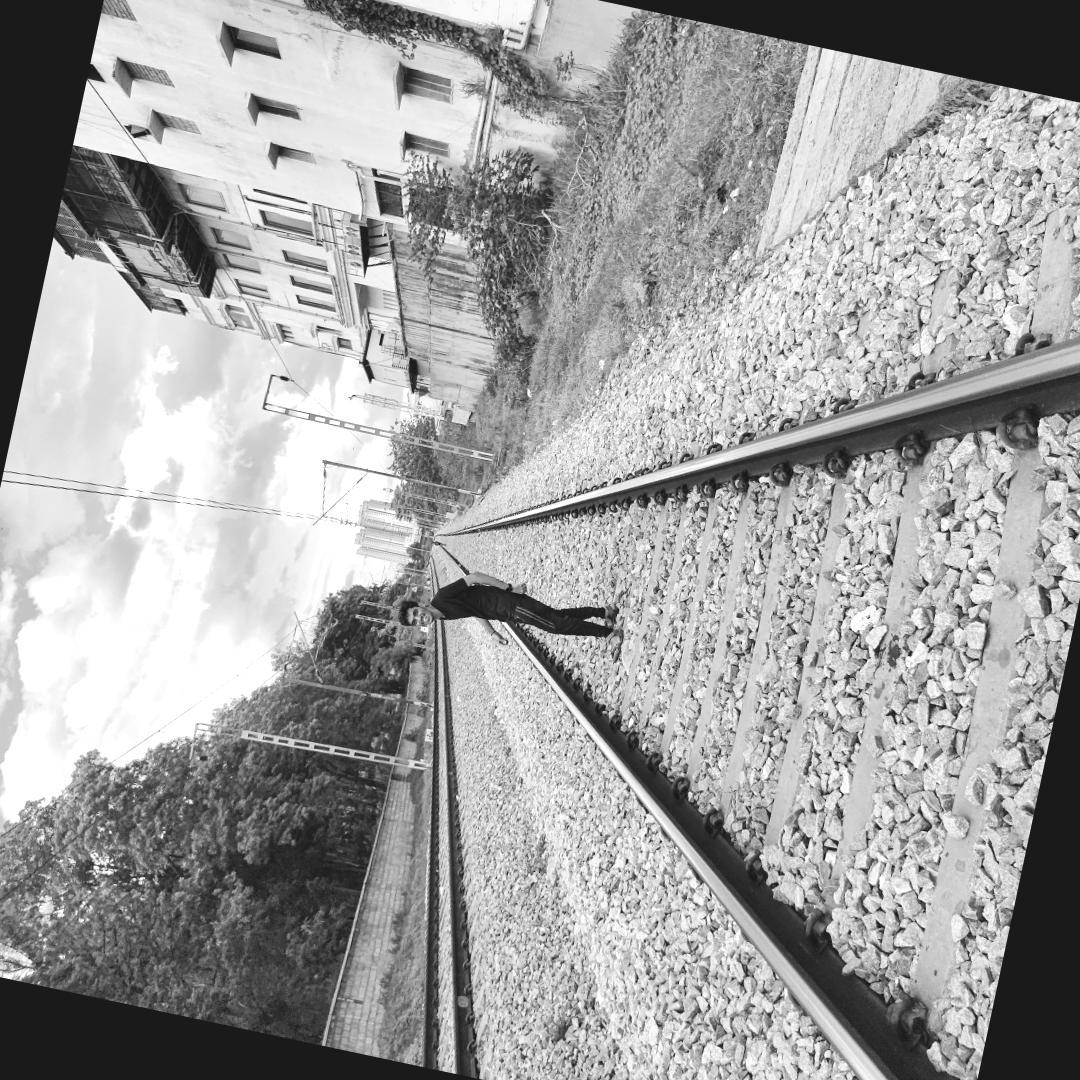standing: (388, 544, 640, 686)
